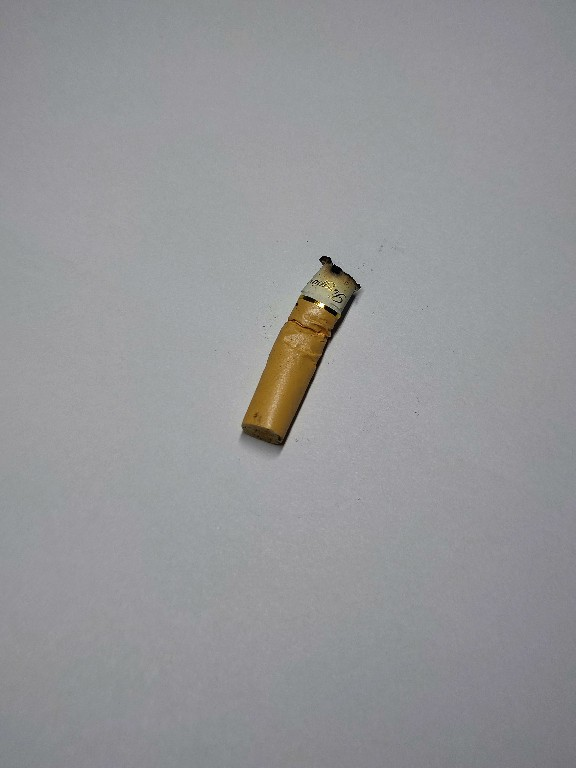cigarette: (237, 248, 363, 452)
